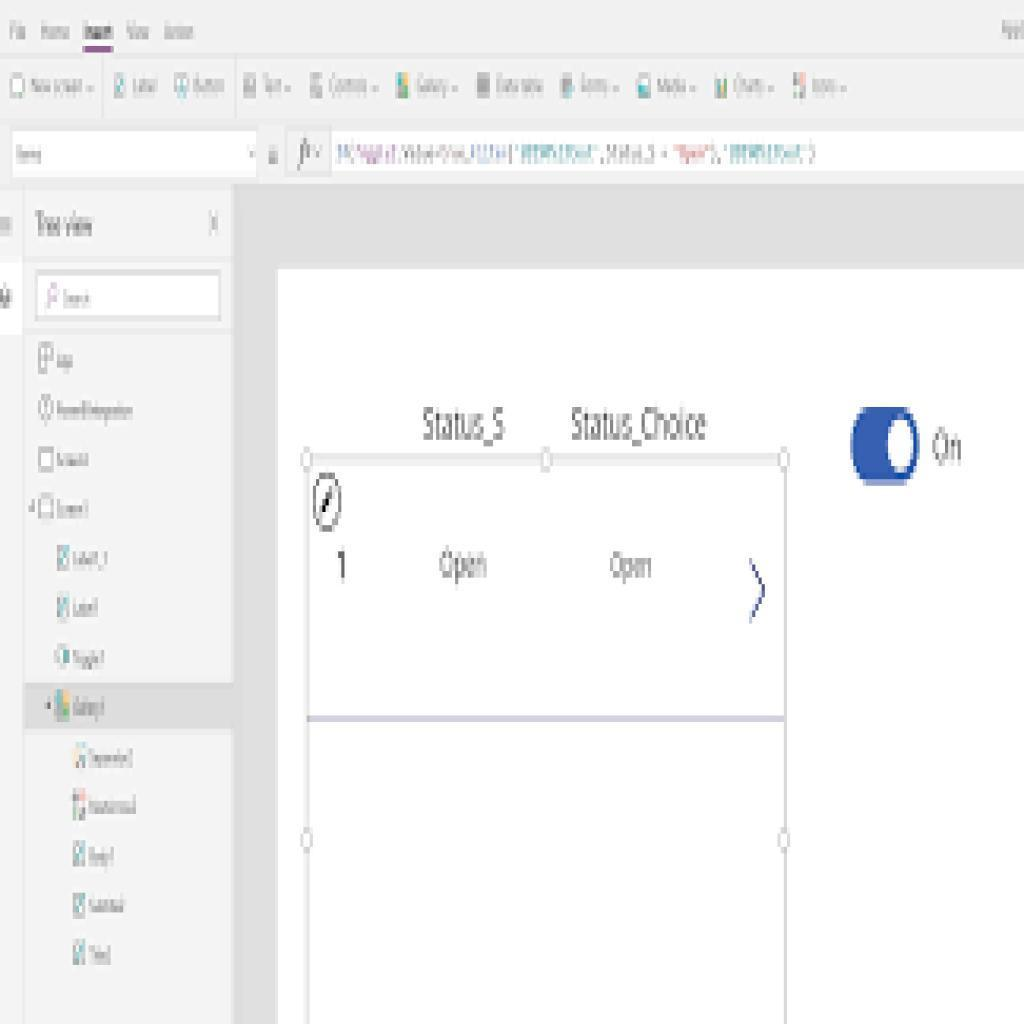checkbox: (35, 445, 58, 476), (10, 72, 29, 101), (38, 495, 56, 520)
icon: (634, 70, 659, 106), (37, 342, 59, 380), (237, 68, 262, 101), (54, 687, 76, 724), (392, 68, 416, 101), (70, 890, 93, 924), (70, 788, 90, 827), (791, 70, 812, 106), (308, 68, 329, 104), (172, 70, 194, 102), (71, 740, 91, 775), (112, 70, 132, 104), (55, 541, 75, 574), (476, 68, 495, 102), (71, 937, 91, 969), (558, 72, 579, 102), (38, 391, 56, 425), (55, 641, 74, 672), (715, 70, 732, 104), (55, 595, 74, 625), (71, 840, 88, 872)
input: (330, 129, 1024, 172), (12, 127, 259, 179), (37, 274, 222, 320)
switch: (850, 407, 921, 489)
